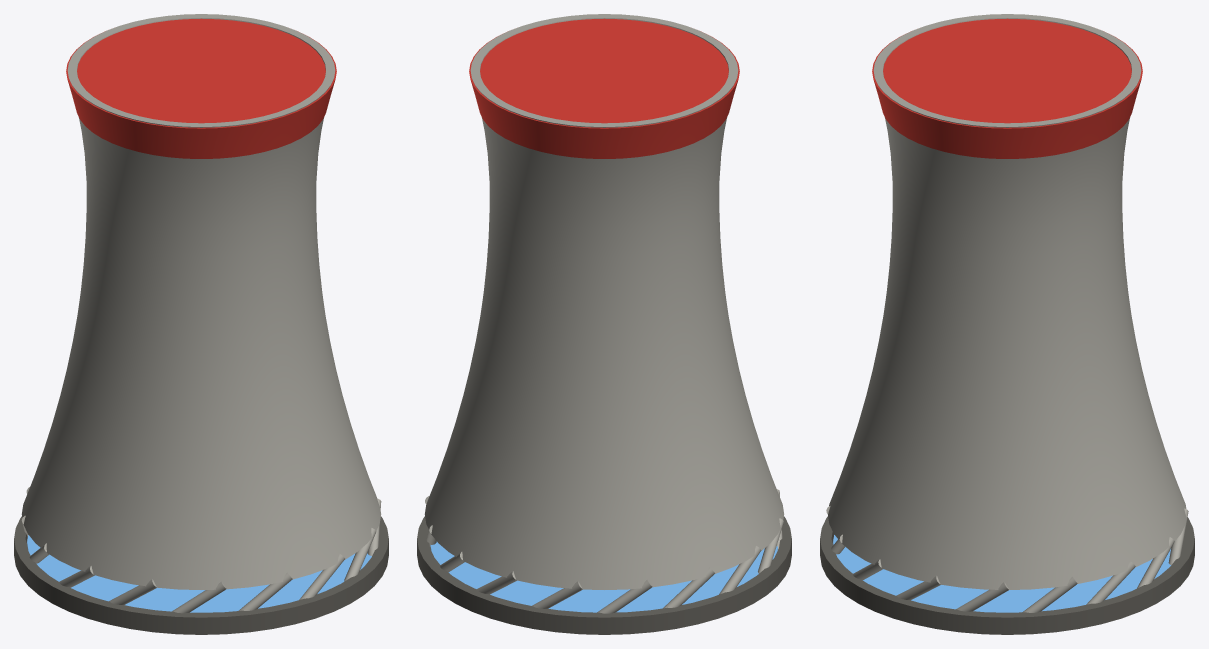
The model's file is CoolingTower.fbx.
3 views of the same model, side by side, from view 1: azimuth 30°, elevation 25°; view 2: azimuth 150°, elevation 25°; view 3: azimuth 270°, elevation 25° (orthographic).
Parts seen in each view (by area): view 1: Body__Concrete, Body__Red, Body__StoneDark, Body__Water; view 2: Body__Concrete, Body__Red, Body__StoneDark, Body__Water; view 3: Body__Concrete, Body__Red, Body__StoneDark, Body__Water.
Part boxes in pixels (x1=…): Body__Concrete: x1=21, y1=14, x2=381, y2=613; Body__Red: x1=66, y1=18, x2=336, y2=158; Body__StoneDark: x1=14, y1=516, x2=388, y2=634; Body__Water: x1=27, y1=535, x2=371, y2=612; Body__Concrete: x1=424, y1=14, x2=784, y2=613; Body__Red: x1=469, y1=18, x2=739, y2=158; Body__StoneDark: x1=417, y1=516, x2=791, y2=634; Body__Water: x1=430, y1=541, x2=777, y2=612; Body__Concrete: x1=826, y1=14, x2=1188, y2=612; Body__Red: x1=872, y1=18, x2=1142, y2=158; Body__StoneDark: x1=820, y1=516, x2=1194, y2=634; Body__Water: x1=833, y1=535, x2=1171, y2=612.
Bounding box in the file's own units: 4.9 × 7.5 × 4.9.
